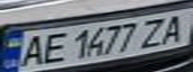1: (66, 26, 90, 61)
4: (87, 24, 109, 58)
7: (115, 20, 145, 53), (103, 21, 127, 56)
A: (12, 33, 51, 70), (154, 11, 193, 45)
E: (36, 29, 69, 65)
Z: (136, 15, 175, 49)
